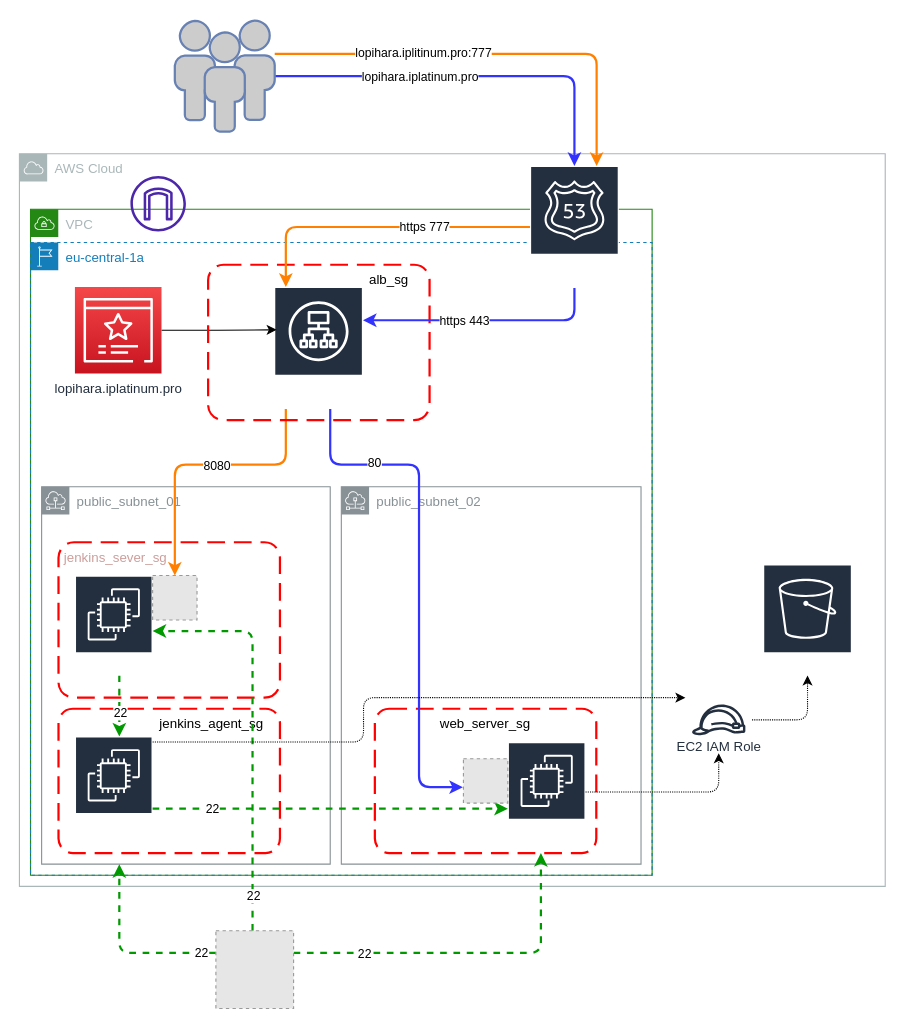
The diagram is 905 pixels wide and 1028 high, and some of its shapes have lost their labels. Grey dashed boxes stand in for pictures. The shapes that lost their labels are listed below. From the top down, each one's centre as x and y in pixels, then its label:
At point 574,226: "Amazon Route 53".
At point 318,347: "Application Load Balancer".
At point 113,624: "jenkins_server".
At point 807,619: "Amazon S3".
At point 113,791: "jenkins_agent".
At point 546,791: "web_server".
